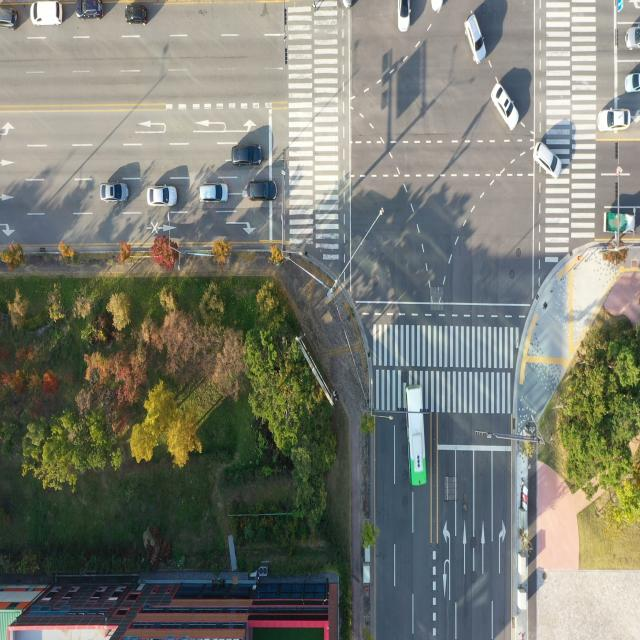car: (463, 14, 489, 66), (492, 82, 520, 130), (532, 141, 562, 179), (598, 108, 631, 136), (31, 0, 65, 25), (121, 5, 149, 29), (232, 145, 262, 167), (76, 0, 104, 23), (250, 181, 278, 202), (148, 188, 177, 208), (0, 5, 22, 31), (200, 182, 227, 203), (101, 183, 128, 203), (396, 0, 412, 33), (624, 71, 640, 97), (625, 24, 640, 46)
large_bus: (405, 384, 429, 489)
small_truck: (601, 208, 636, 238)
